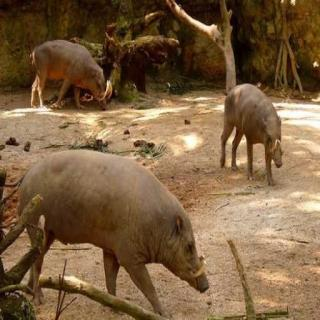Pig: (9, 115, 217, 320), (19, 24, 119, 125), (213, 72, 290, 183)
